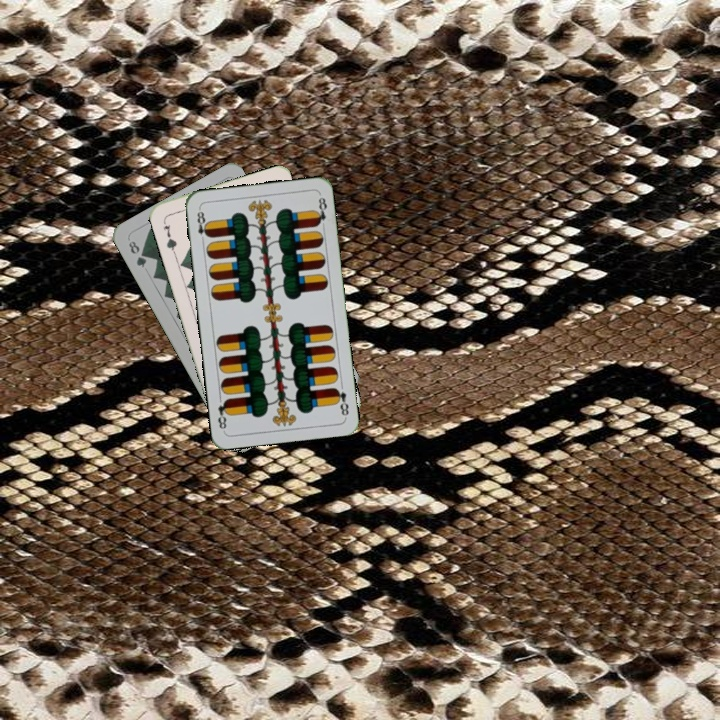E8: (193, 205, 212, 246), (331, 384, 351, 419)
G7: (159, 216, 179, 255)
G8: (124, 237, 149, 270)
